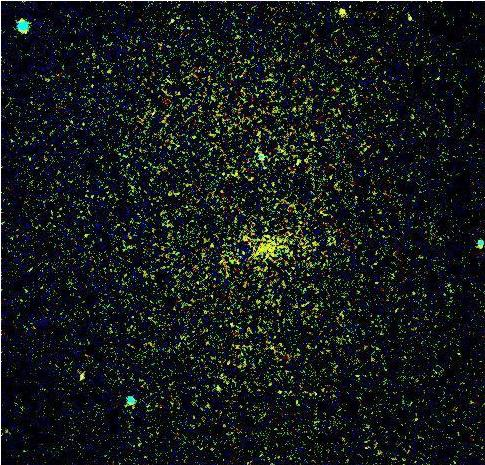star: (327, 0, 357, 25)
